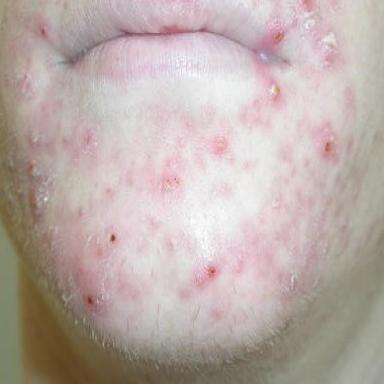acne: (301, 1, 338, 66), (25, 160, 55, 218), (313, 122, 338, 160), (195, 263, 219, 287), (102, 223, 120, 253), (17, 73, 38, 98), (83, 293, 107, 314), (281, 270, 298, 297), (265, 79, 281, 103), (211, 136, 228, 157), (162, 174, 181, 192), (29, 131, 46, 148), (83, 128, 95, 151), (164, 232, 177, 253), (271, 24, 285, 43), (233, 255, 245, 275), (36, 21, 47, 38)
